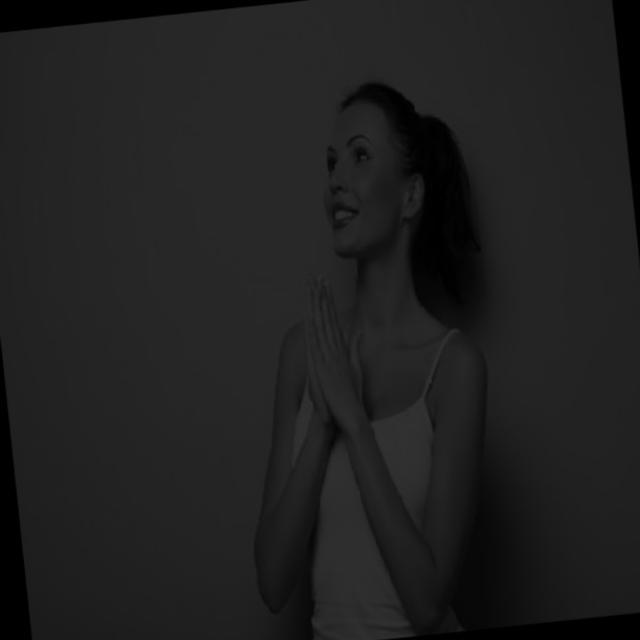Happy: (255, 100, 484, 287)
